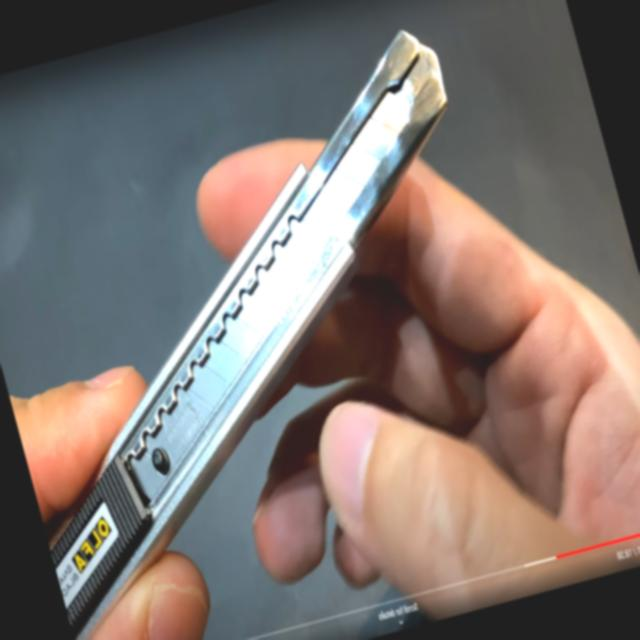cutter: (0, 5, 640, 640)
